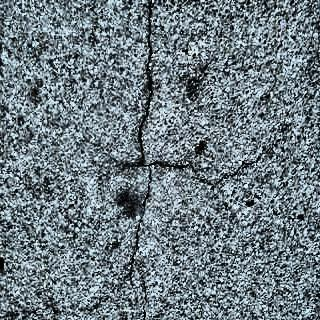crack: (128, 0, 154, 320)
